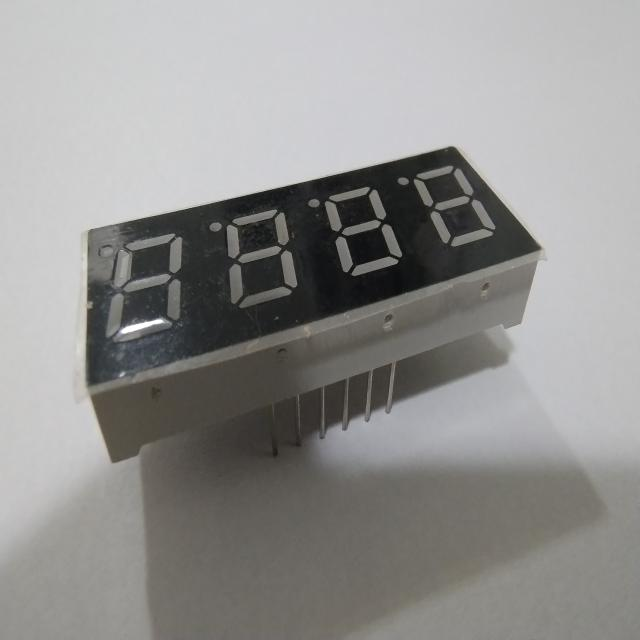7_segments_4_digits: (63, 128, 551, 478)
